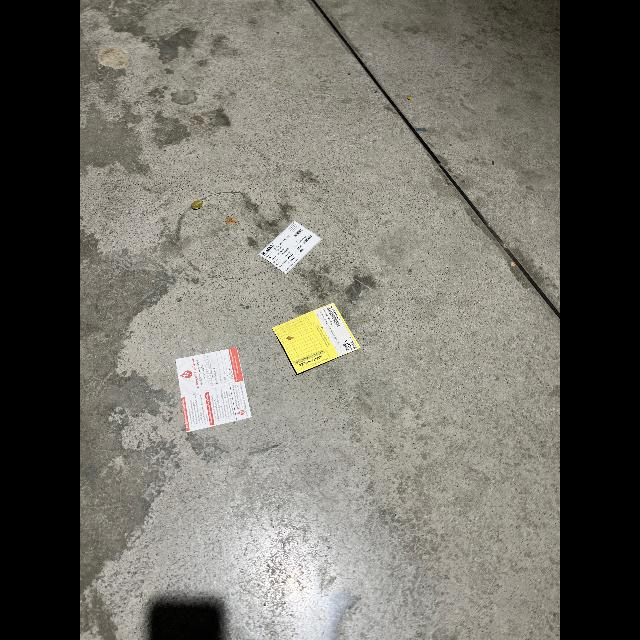scrap_paper: (170, 342, 256, 444), (267, 302, 367, 378), (260, 215, 326, 273)
